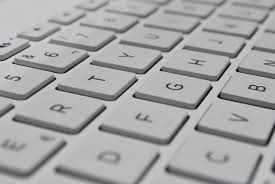keyboard: (1, 2, 275, 181)
